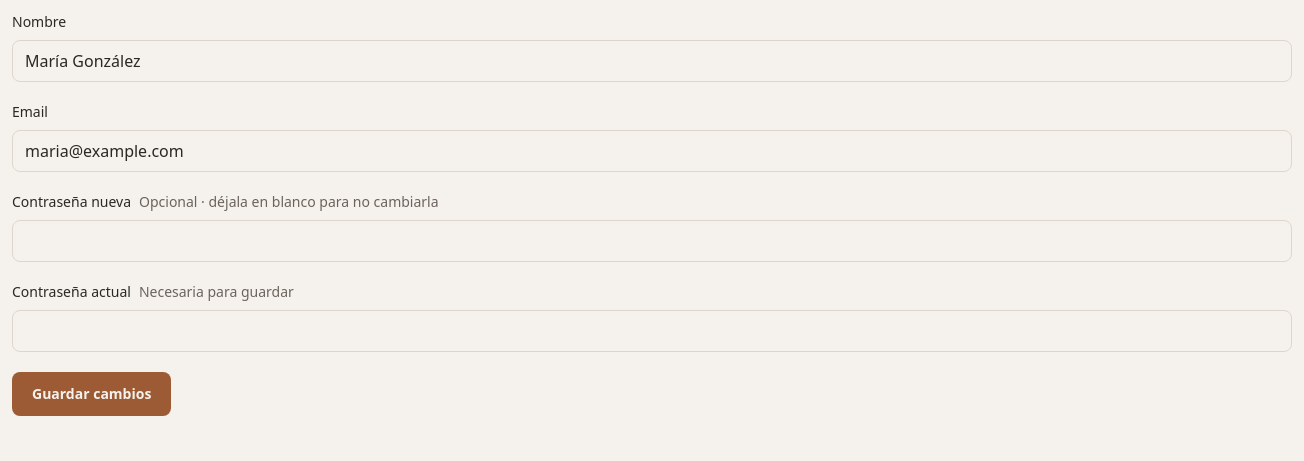
AccountForm › exige la contraseña actual para guardar
Step 1. Click the button "Guardar cambios" → [92, 394], box [12,372,171,416]
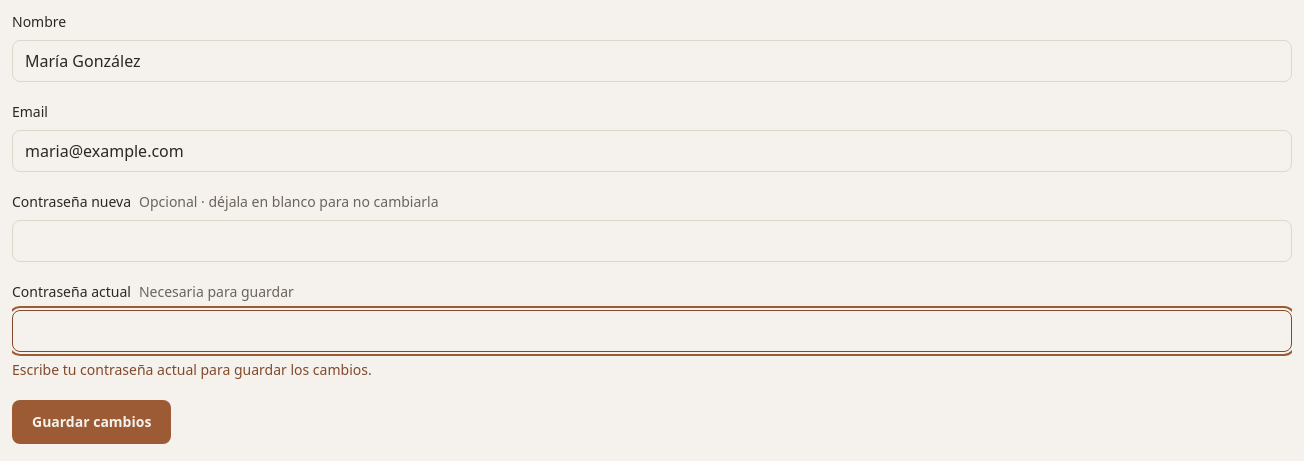
Result: the text "Escribe tu contraseña actual para guardar los cambios." is shown at [12,360,372,379]
